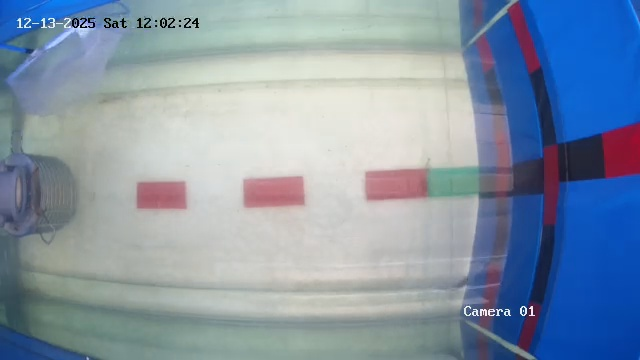fish: (434, 267, 481, 294)
